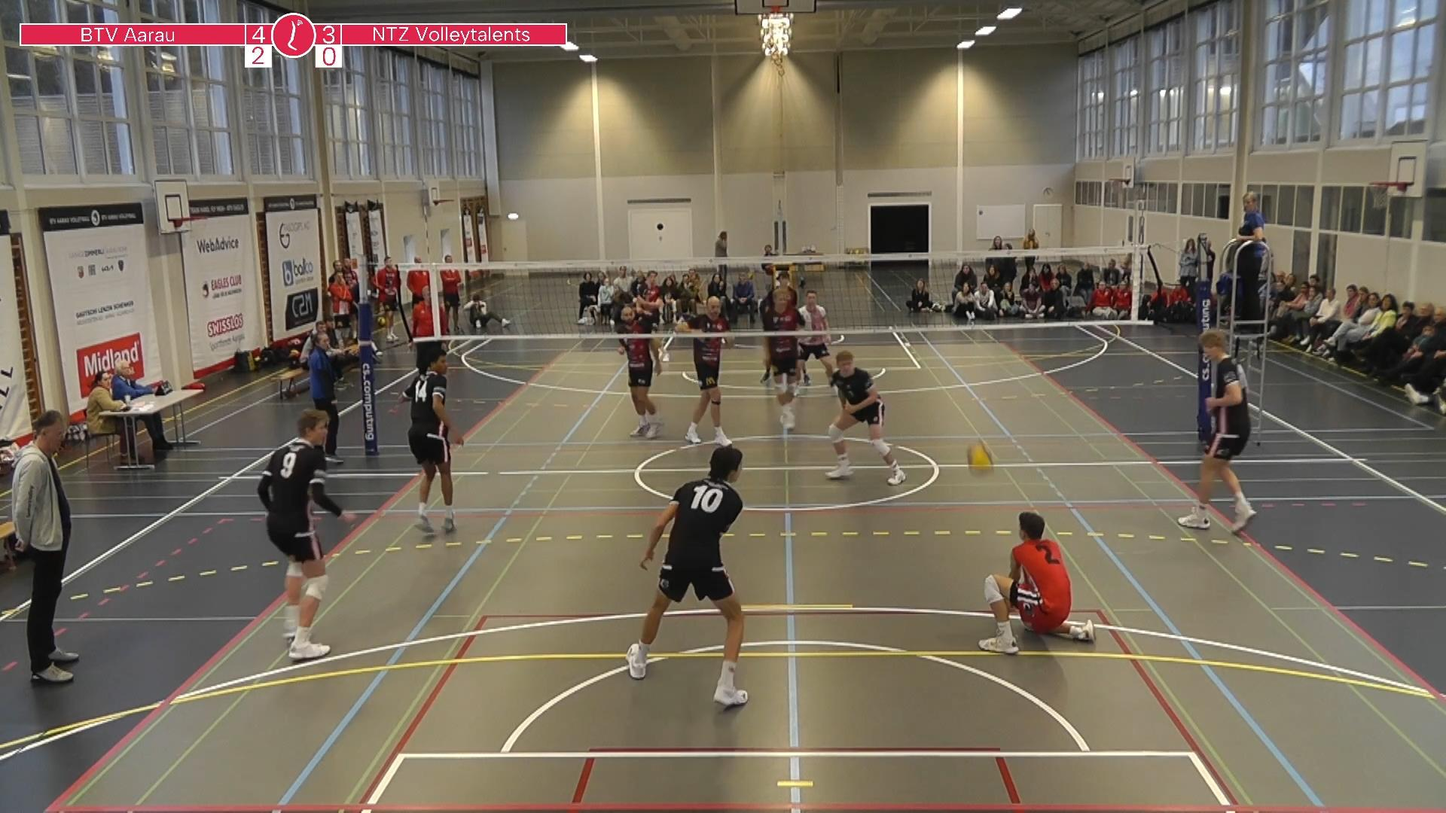Player: (627, 446, 747, 706), (258, 409, 355, 660), (1178, 330, 1256, 533), (827, 351, 905, 485), (405, 353, 462, 534), (678, 297, 731, 446), (616, 305, 662, 439), (799, 291, 834, 385), (767, 335, 798, 430)
Receive: (977, 508, 1100, 654)
ball: (964, 442, 997, 475)
